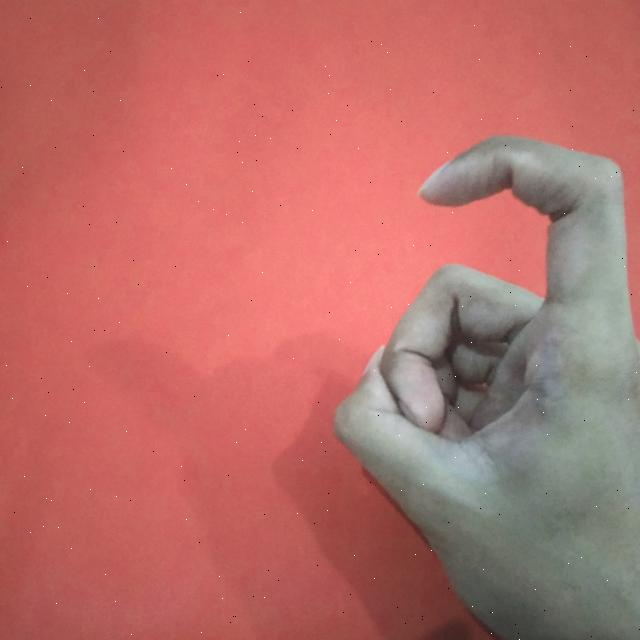X: (313, 126, 640, 640)
